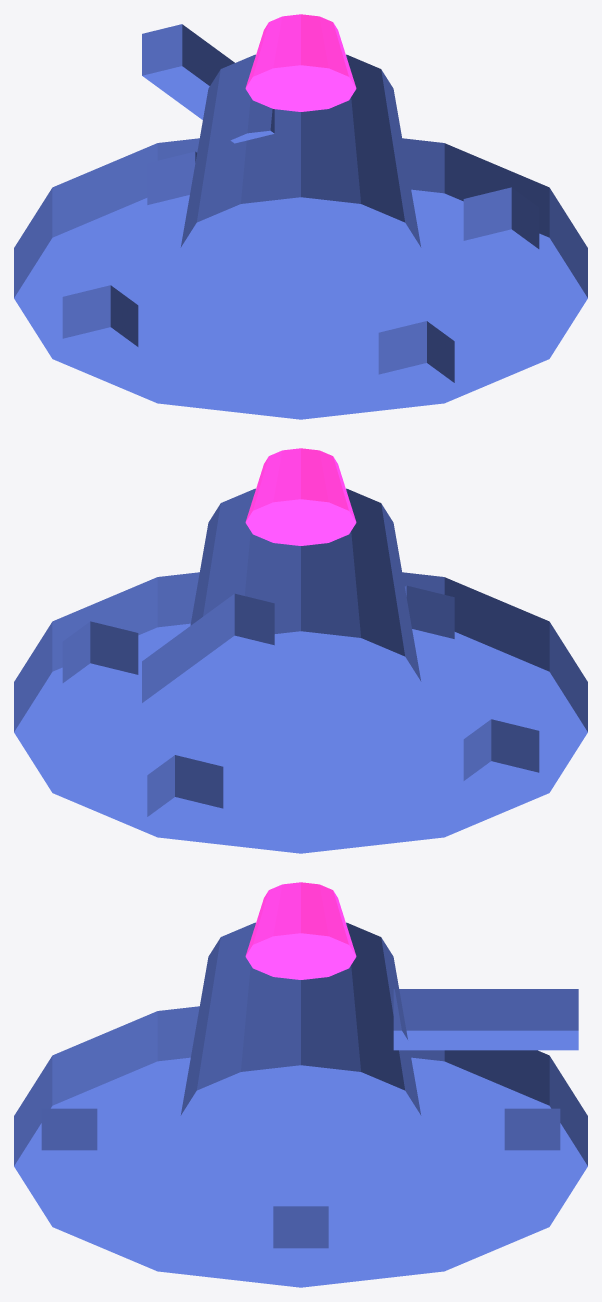
File: space-platform.glb
3 renders of one model, top to bottom at view 1: azimuth 30°, elevation 25°; view 2: azimuth 150°, elevation 25°; view 3: azimuth 270°, elevation 25°, orthographic.
Visible parts, largest first — view 1: space-platform; view 2: space-platform; view 3: space-platform.
Part boxes in pixels (<box>): space-platform: <box>14,14,587,419</box>; space-platform: <box>14,448,587,853</box>; space-platform: <box>14,882,587,1287</box>.
Bounding box in the file's own units: 1.24 × 0.64 × 1.24.
